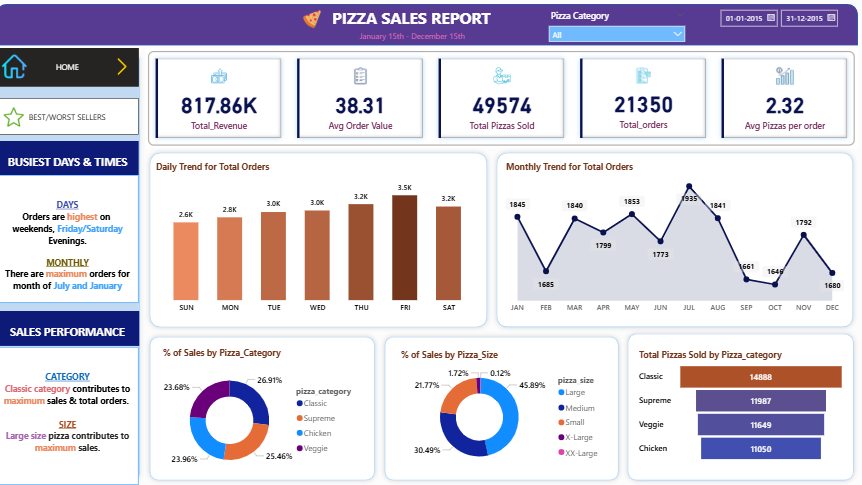

This screenshot's page, from the dashboard's own definition file:
{"tool":"powerbi","page":{"name":"HOME","canvas":[1500,820],"ordinal":0},"visuals":[{"type":"shape","box":[0,81.2,260,738.8],"z":0},{"type":"cardVisual","fields":{"Data":["pizza_sales.Total_Revenue","pizza_sales.Avg Order Value","pizza_sales.Total Pizzas Sold","pizza_sales.Total_orders","pizza_sales.Avg Pizzas per order"]},"box":[260,81.2,1205,170],"z":1000},{"type":"shape","box":[8.8,6.2,1456.2,70],"z":2000},{"type":"textbox","box":[551.2,6.2,318.8,47.5],"z":3000},{"type":"textbox","box":[592.5,47.5,237.5,28.8],"z":4000},{"type":"image","box":[502.5,12.5,80,41.2],"z":5000},{"type":"shape","box":[260.1,250,586.1,310.8],"z":6000},{"type":"columnChart","title":"Daily Trend for Total Orders","fields":{"Category":["pizza_sales.Order Day"],"Y":["pizza_sales.Total_orders"]},"box":[273.6,272,557.4,265.2],"z":7000},{"type":"shape","box":[846.3,250,618.2,310.8],"z":8000},{"type":"areaChart","title":"Monthly Trend for Total Orders","fields":{"Y":["pizza_sales.Total_orders"],"Category":["pizza_sales.Order Month"]},"box":[864.9,272,581.1,265.2],"z":9000},{"type":"shape","box":[260,561.2,396.2,258.8],"z":10000},{"type":"shape","box":[656.2,561.2,411.2,258.8],"z":11000},{"type":"shape","box":[1067.5,555,397.5,263.8],"z":12000},{"type":"donutChart","title":"% of Sales by Pizza_Category","fields":{"Category":["pizza_sales.pizza_category"],"Y":["pizza_sales.Total_Revenue"]},"box":[286.2,586.2,343.8,227.5],"z":13000},{"type":"donutChart","title":"% of Sales by Pizza_Size","fields":{"Category":["pizza_sales.pizza_size"],"Y":["pizza_sales.Total_Revenue"]},"box":[687.5,588.8,355,210],"z":14000},{"type":"funnel","title":"Total Pizzas Sold by Pizza_category","fields":{"Category":["pizza_sales.pizza_category"],"Y":["pizza_sales.Total Pizzas Sold"]},"box":[1088.8,590,357.5,195],"z":15000},{"type":"textbox","box":[8.8,238.8,241.2,57.5],"z":16000},{"type":"textbox","box":[8.8,296.2,241.2,216.2],"z":17000},{"type":"textbox","box":[8.8,586.2,241.2,232.5],"z":18000},{"type":"textbox","box":[8.4,525.3,241.6,59.1],"z":19000},{"type":"slicer","fields":{"Values":["pizza_sales.pizza_category"]},"box":[932.5,12.5,250,63.8],"z":20000},{"type":"slicer","fields":{"Values":["pizza_sales.order_date"]},"box":[1219.6,6.8,226.4,69.3],"z":21000},{"type":"pageNavigator","box":[8.2,80.4,241.1,65.6],"z":22000},{"type":"pageNavigator","box":[8.2,165.6,241.1,62.3],"z":23000},{"type":"image","box":[168.9,93.5,105,39.4],"z":24000},{"type":"image","box":[8.4,86.1,62.5,52.4],"z":24001},{"type":"image","box":[8.4,175.7,60.8,43.9],"z":24002}]}

Visuals, with their boxes in screenshot pixels (x1, y1, x2, y2), scaled from the page's 1500x820 canvas onto the 862x485 screenshot:
shape: Rect(0, 48, 149, 484)
cardVisual - pizza_sales.Total_Revenue x pizza_sales.Avg Order Value: Rect(149, 48, 842, 149)
shape: Rect(5, 4, 842, 45)
textbox: Rect(317, 4, 500, 32)
textbox: Rect(340, 28, 477, 45)
image: Rect(289, 7, 335, 32)
shape: Rect(149, 148, 486, 332)
"Daily Trend for Total Orders" columnChart: Rect(157, 161, 478, 318)
shape: Rect(486, 148, 842, 332)
"Monthly Trend for Total Orders" areaChart: Rect(497, 161, 831, 318)
shape: Rect(149, 332, 377, 484)
shape: Rect(377, 332, 613, 484)
shape: Rect(613, 328, 842, 484)
"% of Sales by Pizza_Category" donutChart: Rect(164, 347, 362, 481)
"% of Sales by Pizza_Size" donutChart: Rect(395, 348, 599, 472)
"Total Pizzas Sold by Pizza_category" funnel: Rect(626, 349, 831, 464)
textbox: Rect(5, 141, 144, 175)
textbox: Rect(5, 175, 144, 303)
textbox: Rect(5, 347, 144, 484)
textbox: Rect(5, 311, 144, 346)
slicer - pizza_sales.pizza_category: Rect(536, 7, 680, 45)
slicer - pizza_sales.order_date: Rect(701, 4, 831, 45)
pageNavigator: Rect(5, 48, 143, 86)
pageNavigator: Rect(5, 98, 143, 135)
image: Rect(97, 55, 157, 79)
image: Rect(5, 51, 41, 82)
image: Rect(5, 104, 40, 130)
